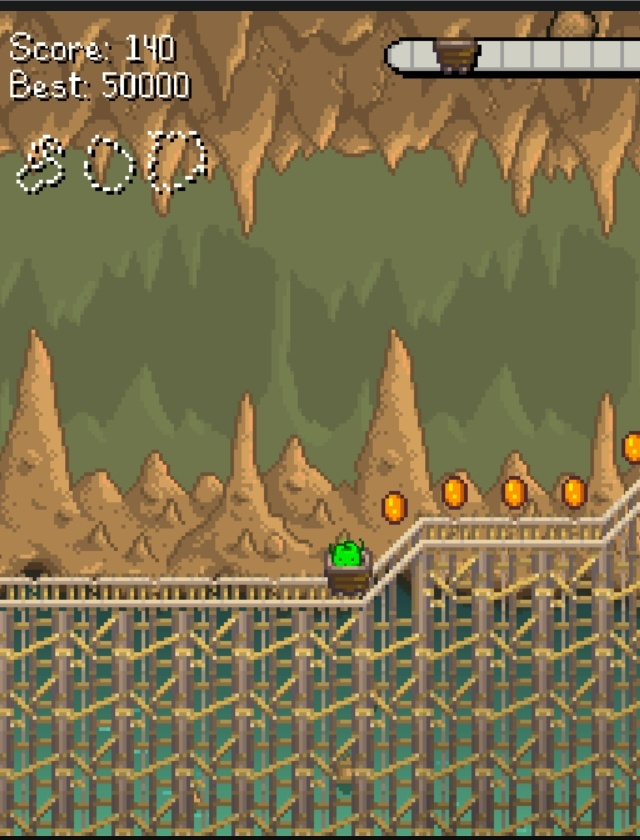coins: (382, 490, 407, 523), (503, 476, 527, 509), (442, 476, 466, 508), (563, 476, 585, 509), (624, 431, 639, 463)
minecart: (325, 540, 371, 594)
tracks: (0, 477, 639, 613)
